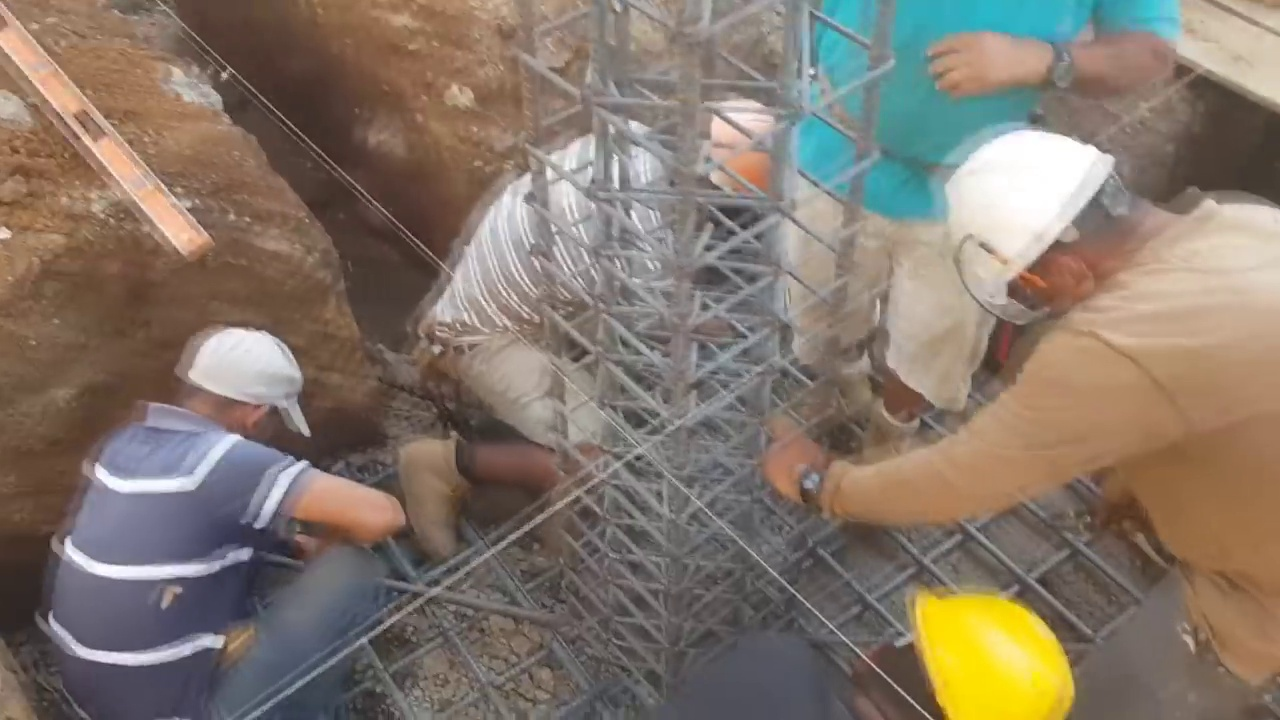helmet: (946, 124, 1119, 304), (910, 593, 1080, 714), (708, 96, 776, 201)
helmet-off: (166, 327, 308, 457)
helmet-on: (937, 127, 1136, 334), (830, 592, 1085, 720), (656, 92, 775, 227)
person: (797, 154, 1276, 693), (742, 3, 1192, 486), (386, 82, 792, 568), (18, 319, 406, 719), (636, 592, 1088, 720)
